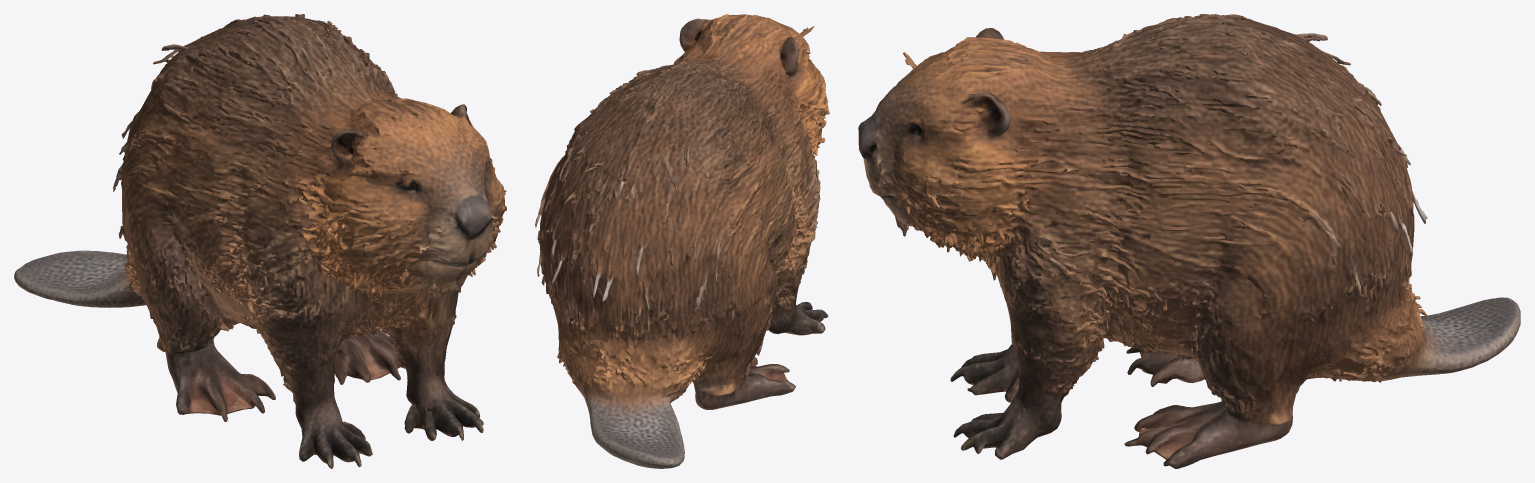
The model's file is eurasian-beaver-v21.glb.
The picture shows the model from 3 angles, left to right: view 1: azimuth 30°, elevation 25°; view 2: azimuth 150°, elevation 25°; view 3: azimuth 270°, elevation 25°; orthographic projection. The views are drawn at different scales.
Visible parts, largest first — view 1: geometry_0; view 2: geometry_0; view 3: geometry_0.
Boxes of the visible parts, x1,y1,x2,y2 form: geometry_0: [14, 14, 506, 468]; geometry_0: [535, 14, 829, 468]; geometry_0: [858, 14, 1520, 468].
Bounding box in the file's own units: 0.8996 × 1.18 × 1.83.
1 material, 1 textured.
